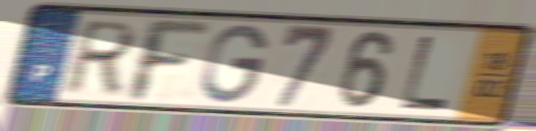6: (337, 29, 397, 110)
7: (275, 21, 337, 111)
F: (126, 15, 213, 105)
G: (199, 22, 271, 106)
L: (397, 33, 454, 113)
R: (57, 18, 142, 96)
